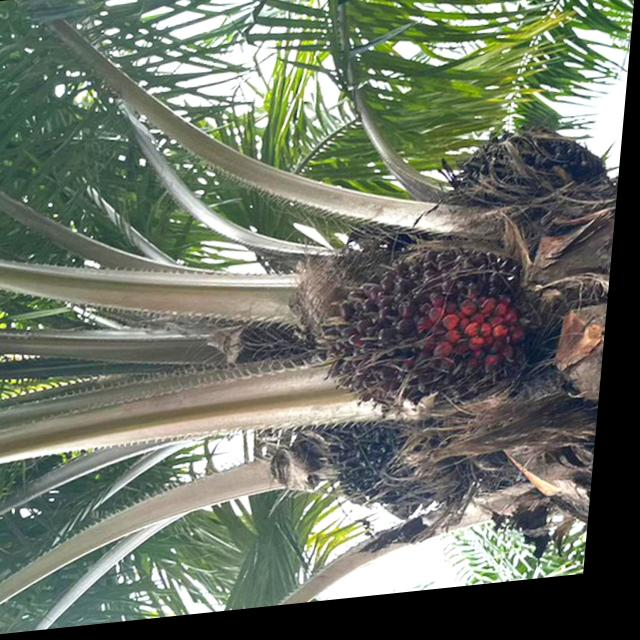ripe: (294, 232, 574, 448)
